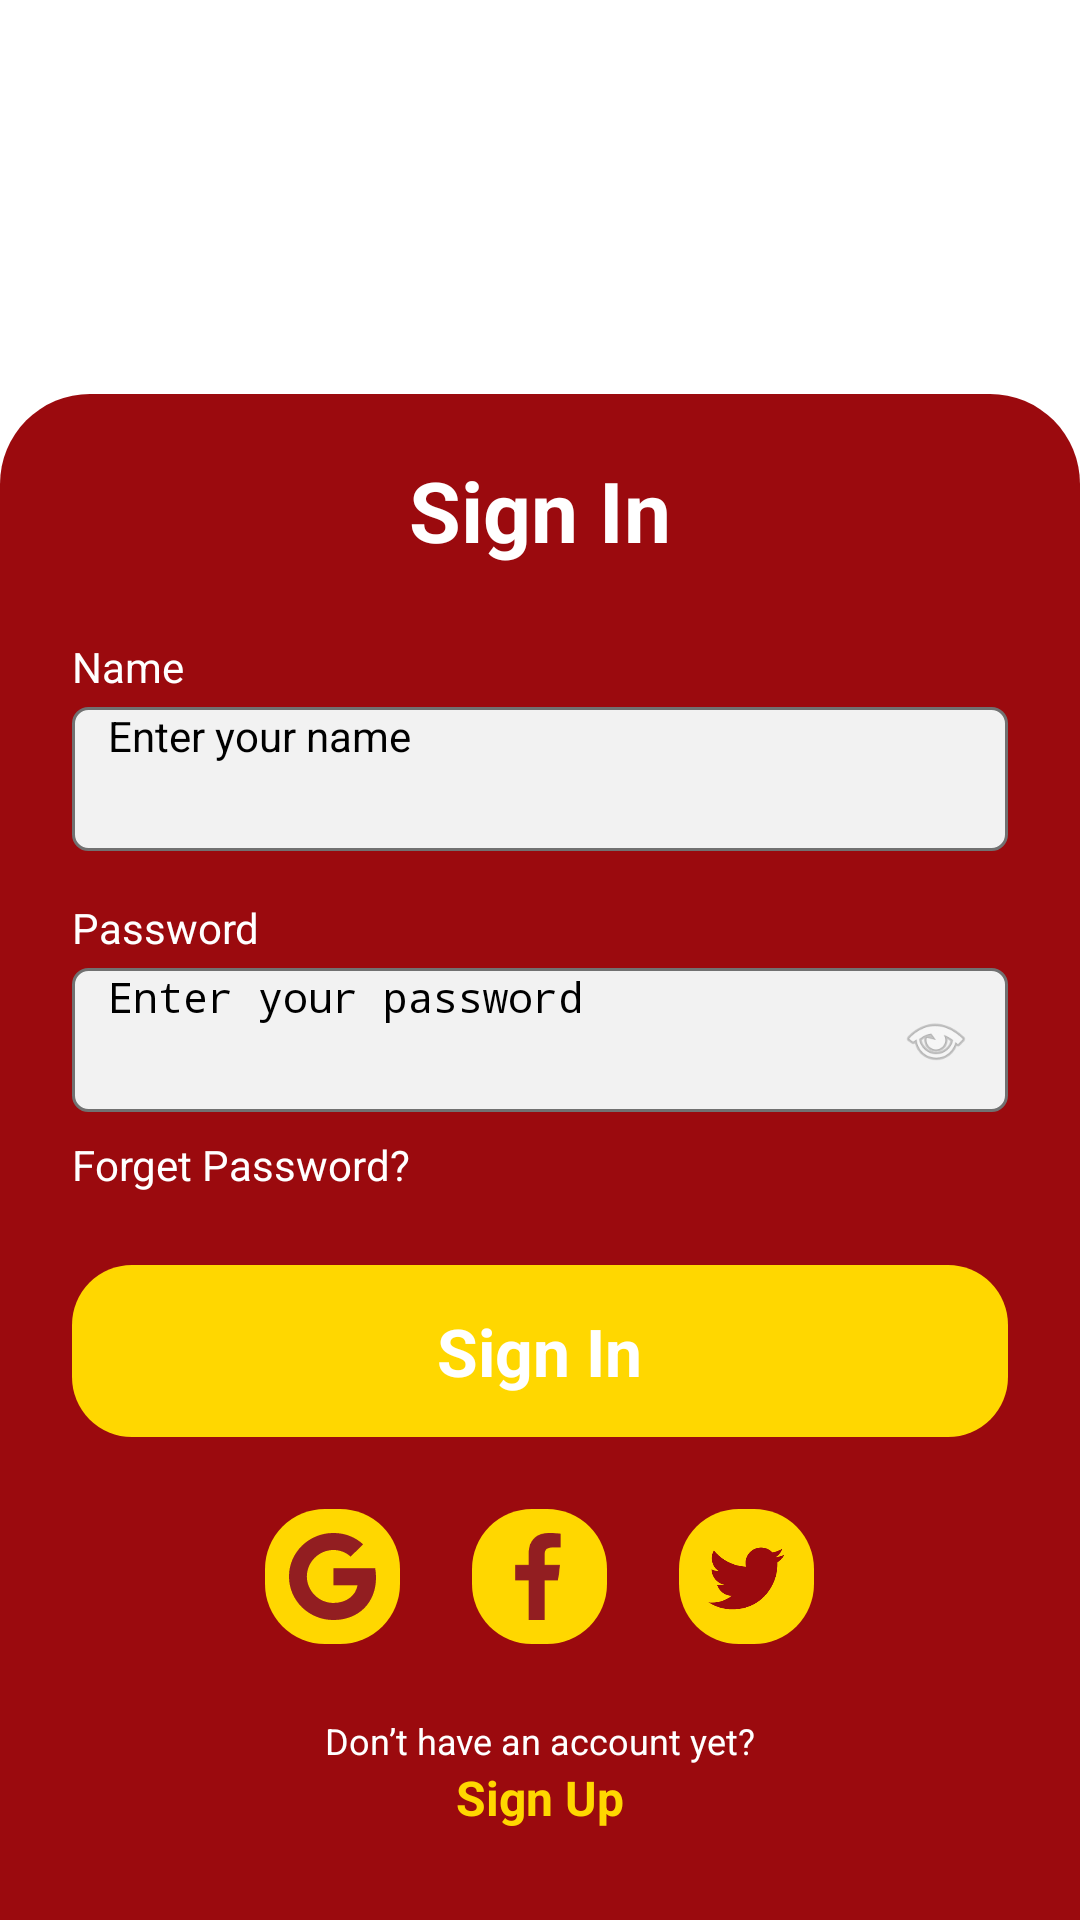

Named icons in this screenshot (1080px x 1920px) and their centers, point (x, y):
view: point (936, 1042)
